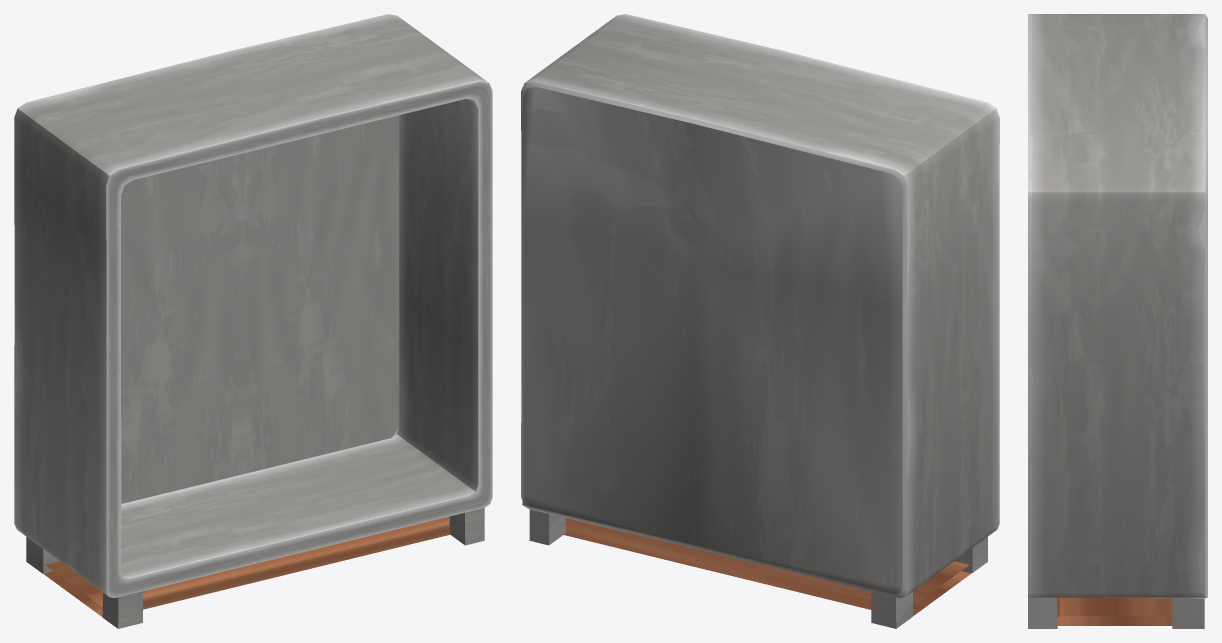
Rendered from regal.fbx.
3 views of the same model, side by side, from view 1: azimuth 30°, elevation 25°; view 2: azimuth 150°, elevation 25°; view 3: azimuth 270°, elevation 25° (orthographic). The views are drawn at different scales.
Parts seen in each view (by area): view 1: frame, fach; view 2: frame, fach; view 3: frame, fach.
Boxes of the visible parts, bbox=[...] form: frame: bbox=[14, 14, 492, 628]; fach: bbox=[44, 516, 450, 616]; frame: bbox=[521, 14, 999, 628]; fach: bbox=[564, 518, 971, 615]; frame: bbox=[1028, 14, 1207, 628]; fach: bbox=[1057, 597, 1172, 625].
Size of the model in its own units: 191 by 218 by 79.94.
